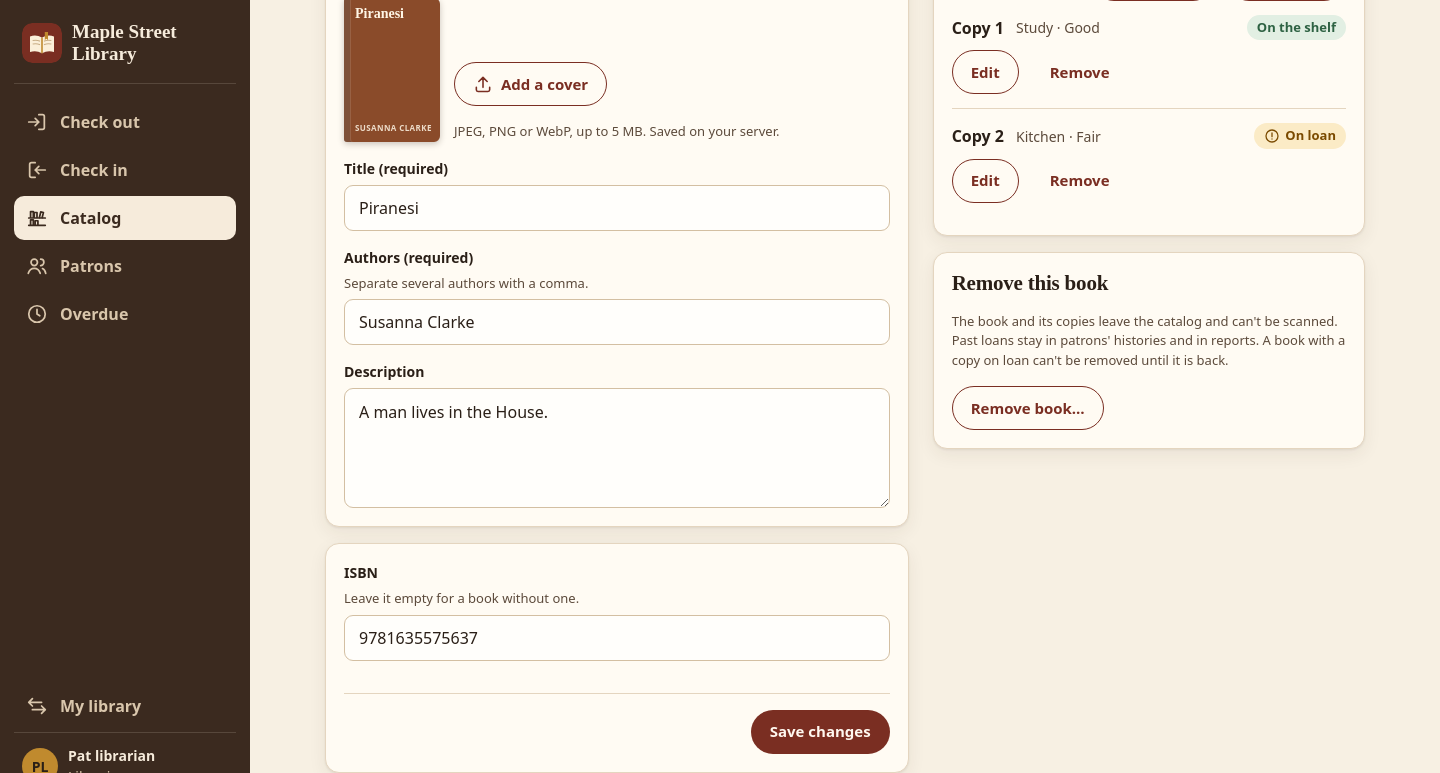
Test case: CAT-5 Manage inventory: a book › an ISBN another book has is refused and that book is offered
(page scrolled)
Expected: the field labelled "Title (required)" is shown, left=344, top=185, right=890, bottom=231
Click the button "Save changes". click: (820, 732)
box: left=751, top=710, right=890, bottom=754
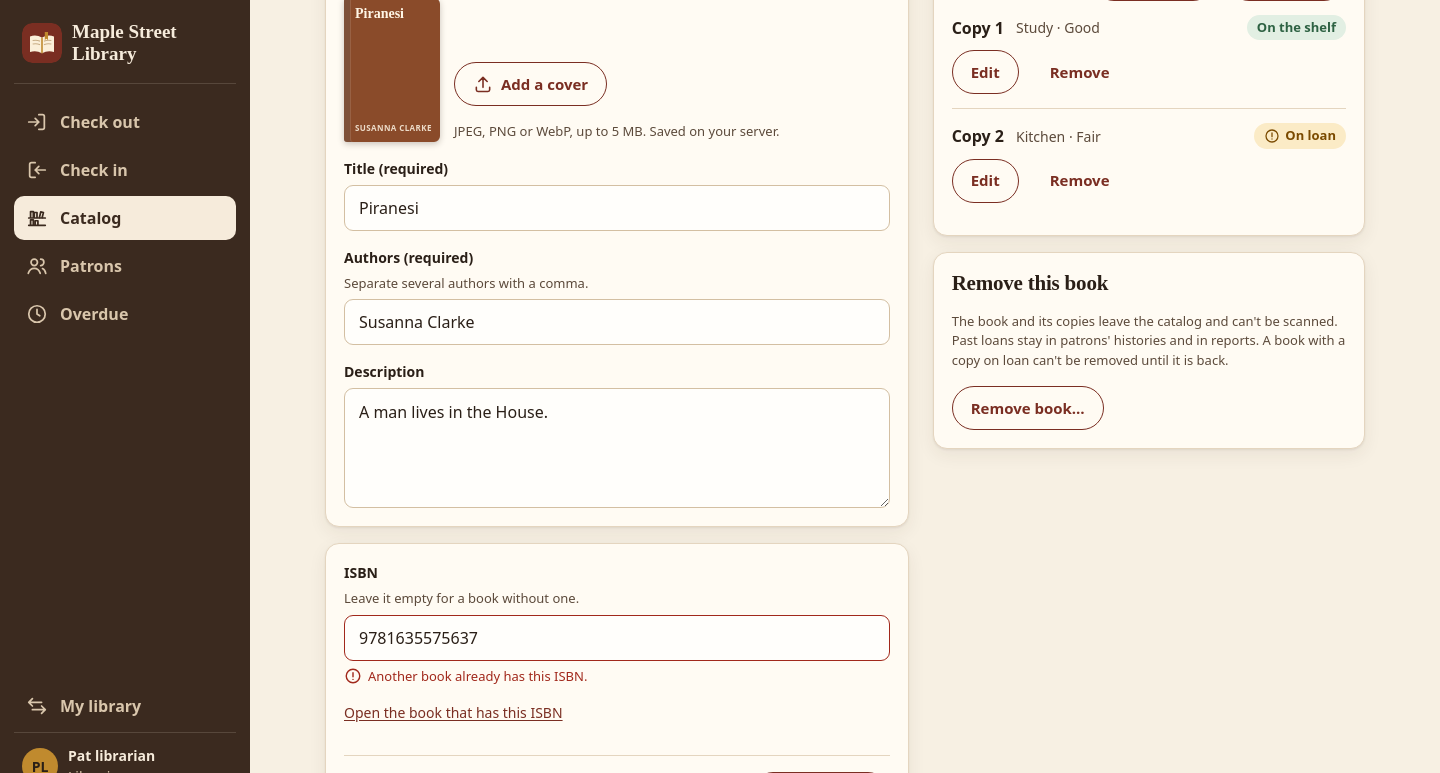
Result: the text "Another book already has this ISBN." is shown at left=344, top=667, right=587, bottom=685
